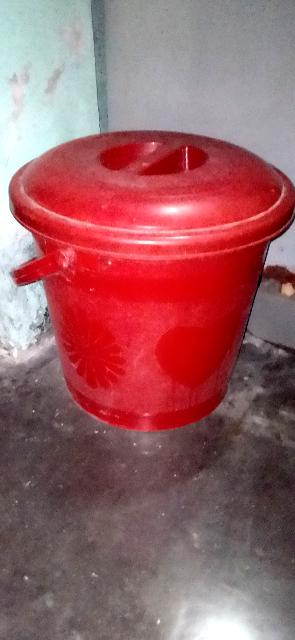hardplastic: (1, 111, 295, 455)
